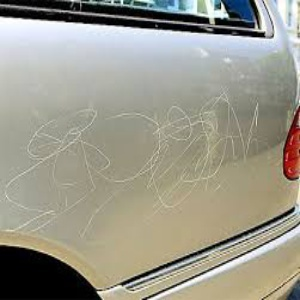door_scratch: (3, 79, 269, 232)
